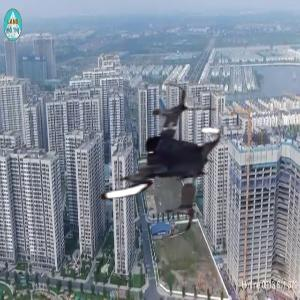drone: (72, 77, 241, 246)
